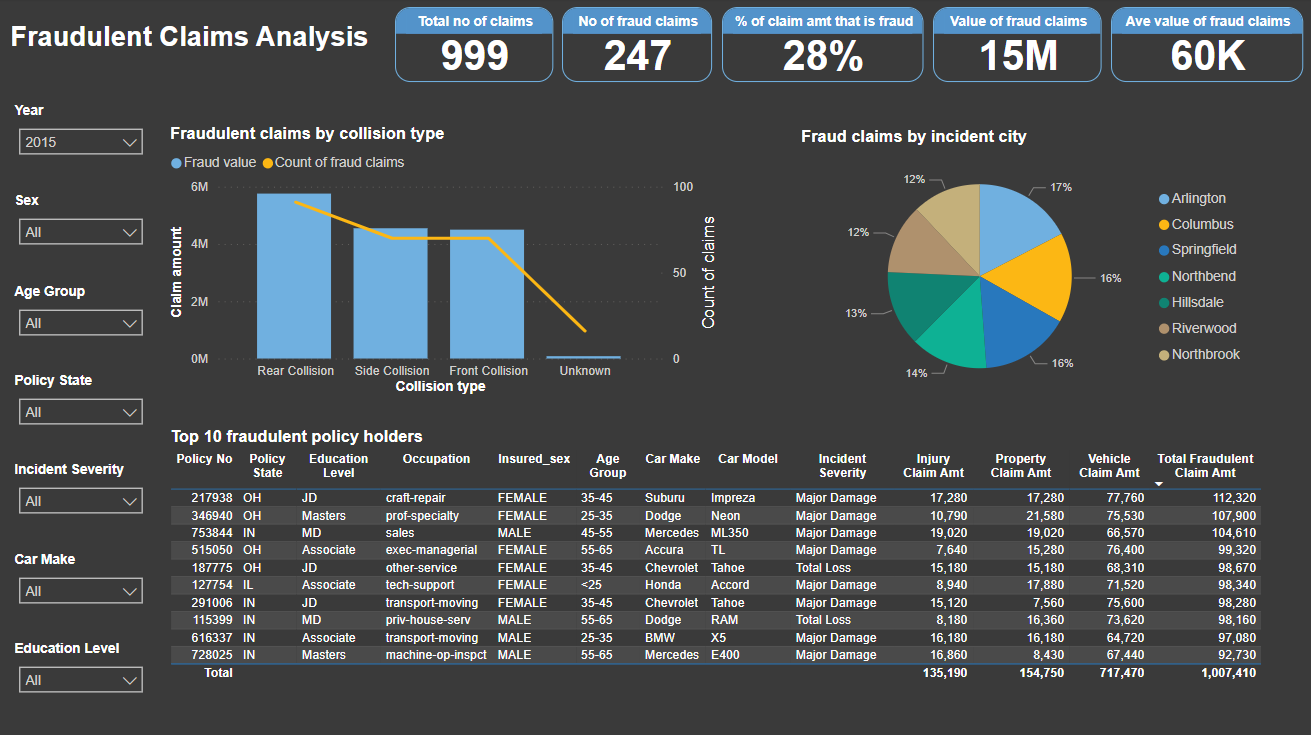

What the dashboard file says about the page in this screenshot:
{"tool":"powerbi","page":{"name":"Fraudulent Claims Analysis 2","canvas":[1280,720],"ordinal":1},"visuals":[{"type":"card","title":"Total no of claims","fields":{"Values":["CountNonNull(3_insurance_claims_python_processed_primary.total_claim_amount)"]},"box":[385.2,8.8,153.7,72.9],"z":0},{"type":"card","title":"No of fraud claims","fields":{"Values":["CountNonNull(3_insurance_claims_python_processed_primary.fraud_reported)"]},"box":[547.6,8.8,145.9,72.9],"z":1000},{"type":"card","title":"Ave value of fraud claims","fields":{"Values":["Avg(3_insurance_claims_python_processed_primary.fraudulent_claim_amount)"]},"box":[1081.6,8.8,186.7,72.9],"z":2000},{"type":"textbox","box":[5.8,17.5,379.3,46.7],"z":3000},{"type":"card","title":"Value of fraud claims","fields":{"Values":["Sum(3_insurance_claims_python_processed_primary.fraudulent_claim_amount)"]},"box":[908.4,8.8,164.4,72.9],"z":4000},{"type":"slicer","title":"Policy State","fields":{"Values":["3_insurance_claims_python_processed_primary.policy_state"]},"box":[9.7,364.7,140.1,53.5],"z":5000},{"type":"slicer","title":"Sex","fields":{"Values":["3_insurance_claims_python_processed_primary.insured_sex"]},"box":[9.7,190,140.1,54.5],"z":6000},{"type":"slicer","title":"Age Group","fields":{"Values":["3_insurance_claims_python_processed_primary.age_group"]},"box":[9.7,277.8,140.1,53.5],"z":7000},{"type":"slicer","title":"Year","fields":{"Values":["3_insurance_claims_python_processed_primary.incident_year"]},"box":[9.7,102.1,140.1,54.5],"z":8000},{"type":"slicer","title":"Incident Severity","fields":{"Values":["3_insurance_claims_python_processed_primary.incident_severity"]},"box":[9.7,451.6,140.1,53.5],"z":9000},{"type":"slicer","title":"Car Make","fields":{"Values":["3_insurance_claims_python_processed_primary.auto_make"]},"box":[9.7,538.5,140.1,53.5],"z":10000},{"type":"slicer","title":"Education Level","fields":{"Values":["3_insurance_claims_python_processed_primary.insured_education_level"]},"box":[9.7,625.4,140.1,53.5],"z":11000},{"type":"card","title":"% of claim amt that is fraud","fields":{"Values":["3_insurance_claims_python_processed_primary.PercentageFraudulentClaims"]},"box":[703.2,8.8,196.5,72.9],"z":12000},{"type":"tableEx","title":"Top 10 fraudulent policy holders","fields":{"Values":["3_insurance_claims_python_processed_primary.policy_number","3_insurance_claims_python_processed_primary.policy_state","3_insurance_claims_python_processed_primary.insured_education_level","3_insurance_claims_python_processed_primary.insured_occupation","3_insurance_claims_python_processed_primary.insured_sex","3_insurance_claims_python_processed_primary.age_group","3_insurance_claims_python_processed_primary.auto_make","3_insurance_claims_python_processed_primary.auto_model","3_insurance_claims_python_processed_primary.incident_severity","Sum(3_insurance_claims_python_processed_primary.injury_claim)","Sum(3_insurance_claims_python_processed_primary.property_claim)","Sum(3_insurance_claims_python_processed_primary.vehicle_claim)"]},"box":[161.5,418.2,1106.9,260.7],"z":13000},{"type":"lineClusteredColumnComboChart","title":"Fraudulent claims by collision type","fields":{"Category":["3_insurance_claims_python_processed_primary.collision_type"],"Y":["Sum(3_insurance_claims_python_processed_primary.fraudulent_claim_amount)"],"Y2":["CountNonNull(3_insurance_claims_python_processed_primary.fraudulent_claim_amount)"]},"box":[161.5,123.5,541.8,267.5],"z":13001},{"type":"pieChart","title":"Fraud claims by incident city","fields":{"Y":["Sum(3_insurance_claims_python_processed_primary.fraudulent_claim_amount)"],"Category":["3_insurance_claims_python_processed_primary.incident_city"]},"box":[775.2,126.4,446.4,271.4],"z":13002}]}

Visuals, with their boxes in screenshot pixels (x1, y1, x2, y2), scaled from the page's 1280x720 canvas onto the 1311x735 screenshot:
"Total no of claims" card: l=395, t=9, r=552, b=83
"No of fraud claims" card: l=561, t=9, r=710, b=83
"Ave value of fraud claims" card: l=1108, t=9, r=1299, b=83
textbox: l=6, t=18, r=394, b=66
"Value of fraud claims" card: l=930, t=9, r=1099, b=83
"Policy State" slicer: l=10, t=372, r=153, b=427
"Sex" slicer: l=10, t=194, r=153, b=250
"Age Group" slicer: l=10, t=284, r=153, b=338
"Year" slicer: l=10, t=104, r=153, b=160
"Incident Severity" slicer: l=10, t=461, r=153, b=516
"Car Make" slicer: l=10, t=550, r=153, b=604
"Education Level" slicer: l=10, t=638, r=153, b=693
"% of claim amt that is fraud" card: l=720, t=9, r=921, b=83
"Top 10 fraudulent policy holders" tableEx: l=165, t=427, r=1299, b=693
"Fraudulent claims by collision type" lineClusteredColumnComboChart: l=165, t=126, r=720, b=399
"Fraud claims by incident city" pieChart: l=794, t=129, r=1251, b=406
